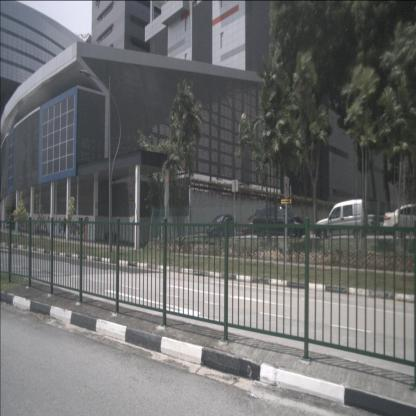cone: (102, 230, 105, 242)
